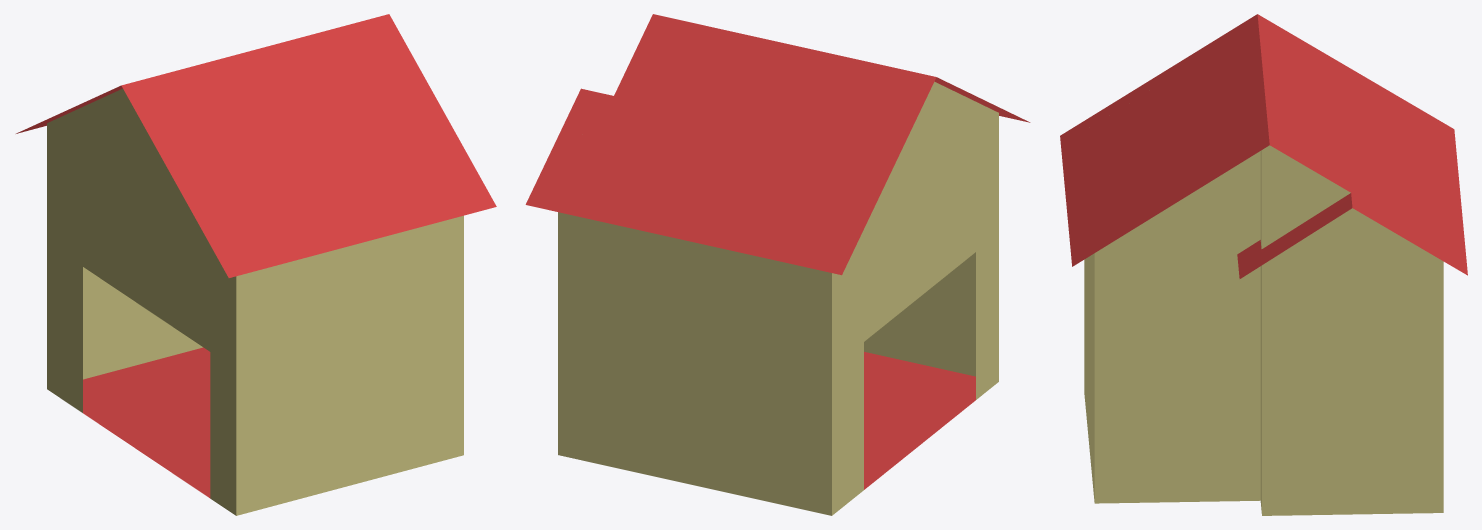
3 renders of one model, left to right at view 1: azimuth 30°, elevation 25°; view 2: azimuth 150°, elevation 25°; view 3: azimuth 270°, elevation 25°, orthographic. The views are drawn at different scales.
Bounding box in the file's own units: 11.43 × 13.11 × 12.95.
